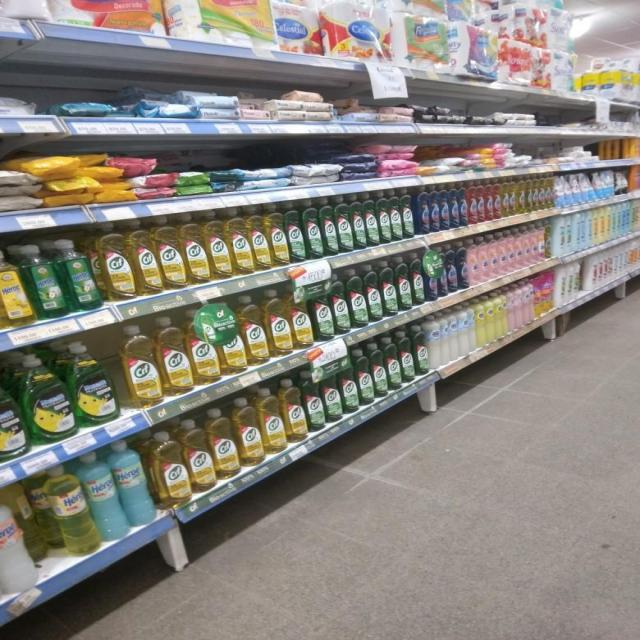ala_conc_azul: (415, 187, 428, 235), (430, 185, 440, 233), (440, 184, 450, 230), (450, 183, 459, 229), (459, 183, 468, 227)
ala_conc_rojo: (469, 182, 478, 224)
ala_crem_amarillo: (495, 292, 506, 340), (486, 294, 496, 344)
cif_conc_bot_amarilla: (119, 324, 159, 409), (152, 428, 188, 510), (99, 224, 132, 302), (160, 316, 190, 396), (190, 308, 218, 386), (132, 220, 158, 296), (158, 216, 183, 292), (219, 298, 243, 376), (188, 418, 213, 492), (213, 407, 237, 480), (238, 396, 262, 467), (242, 294, 266, 365), (184, 213, 206, 286), (267, 288, 290, 357), (262, 384, 284, 455), (207, 211, 229, 281), (229, 208, 251, 276), (282, 378, 304, 443), (290, 286, 311, 350), (250, 207, 268, 272), (268, 204, 286, 267)
cif_conc_botella_verde: (311, 278, 332, 342), (305, 369, 323, 433), (348, 268, 366, 330), (286, 202, 304, 263), (332, 270, 348, 336), (304, 200, 320, 260), (324, 367, 341, 423), (341, 355, 357, 414), (357, 346, 372, 406), (336, 197, 352, 253), (366, 264, 381, 323), (321, 198, 336, 256), (396, 256, 411, 312), (371, 342, 386, 398), (386, 333, 400, 392), (382, 260, 396, 318), (400, 330, 414, 383), (365, 192, 378, 247), (411, 254, 424, 308), (414, 326, 428, 376), (377, 191, 390, 244), (352, 196, 364, 250), (402, 188, 414, 239), (390, 190, 401, 241)
magistral_con_amarillo: (0, 369, 22, 465)
